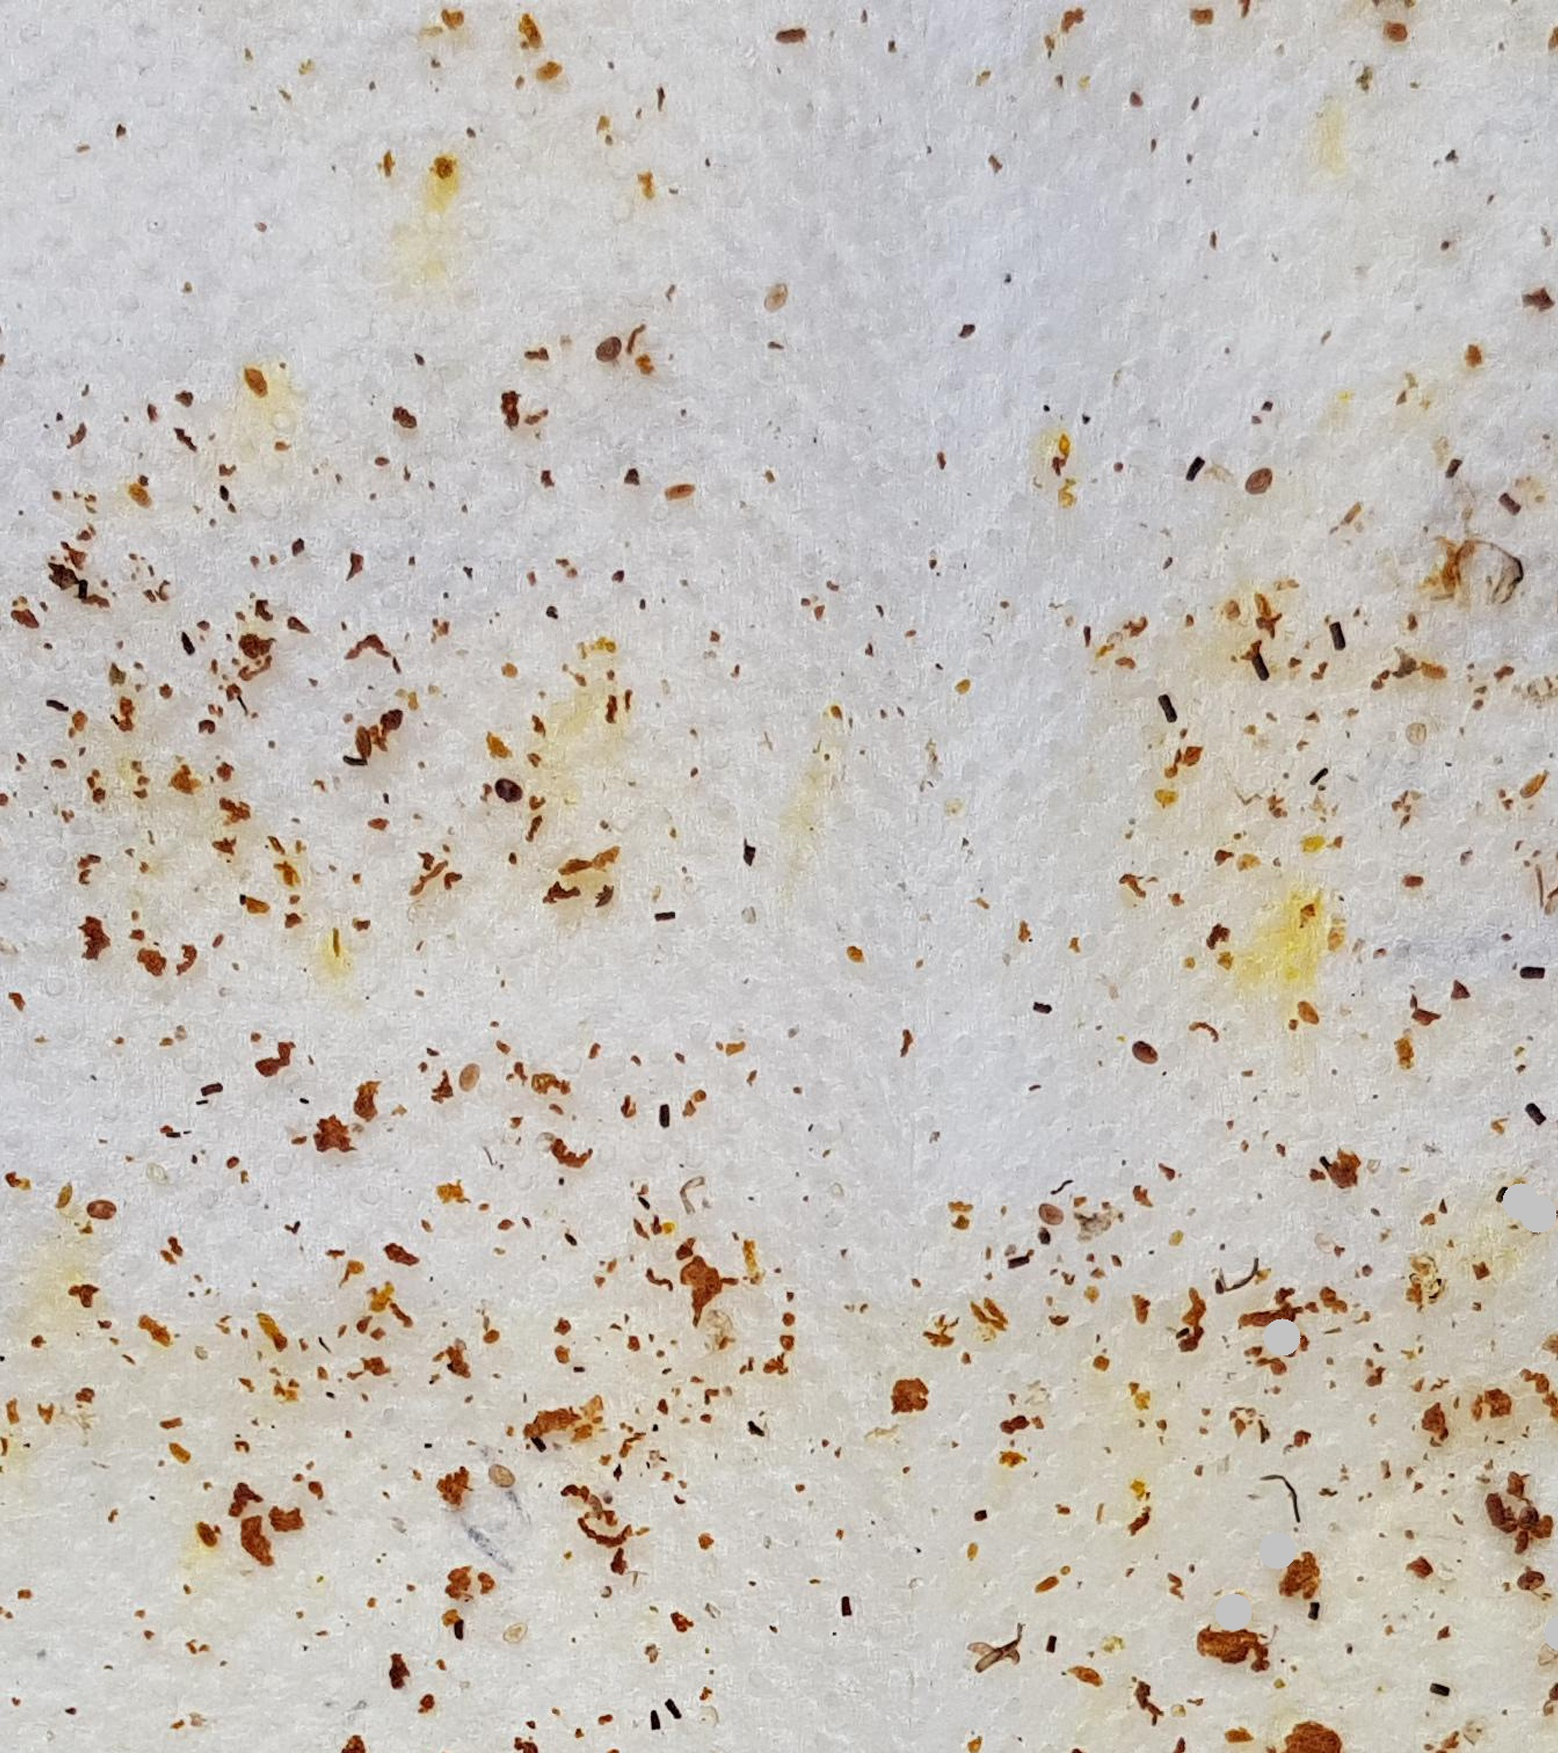Varroa: (1117, 1043, 1156, 1085), (1239, 462, 1277, 499), (596, 332, 630, 368), (80, 1188, 113, 1225), (1516, 1564, 1549, 1600), (484, 1464, 517, 1500), (493, 776, 526, 809), (1032, 1203, 1063, 1236), (1135, 1028, 1165, 1061)
